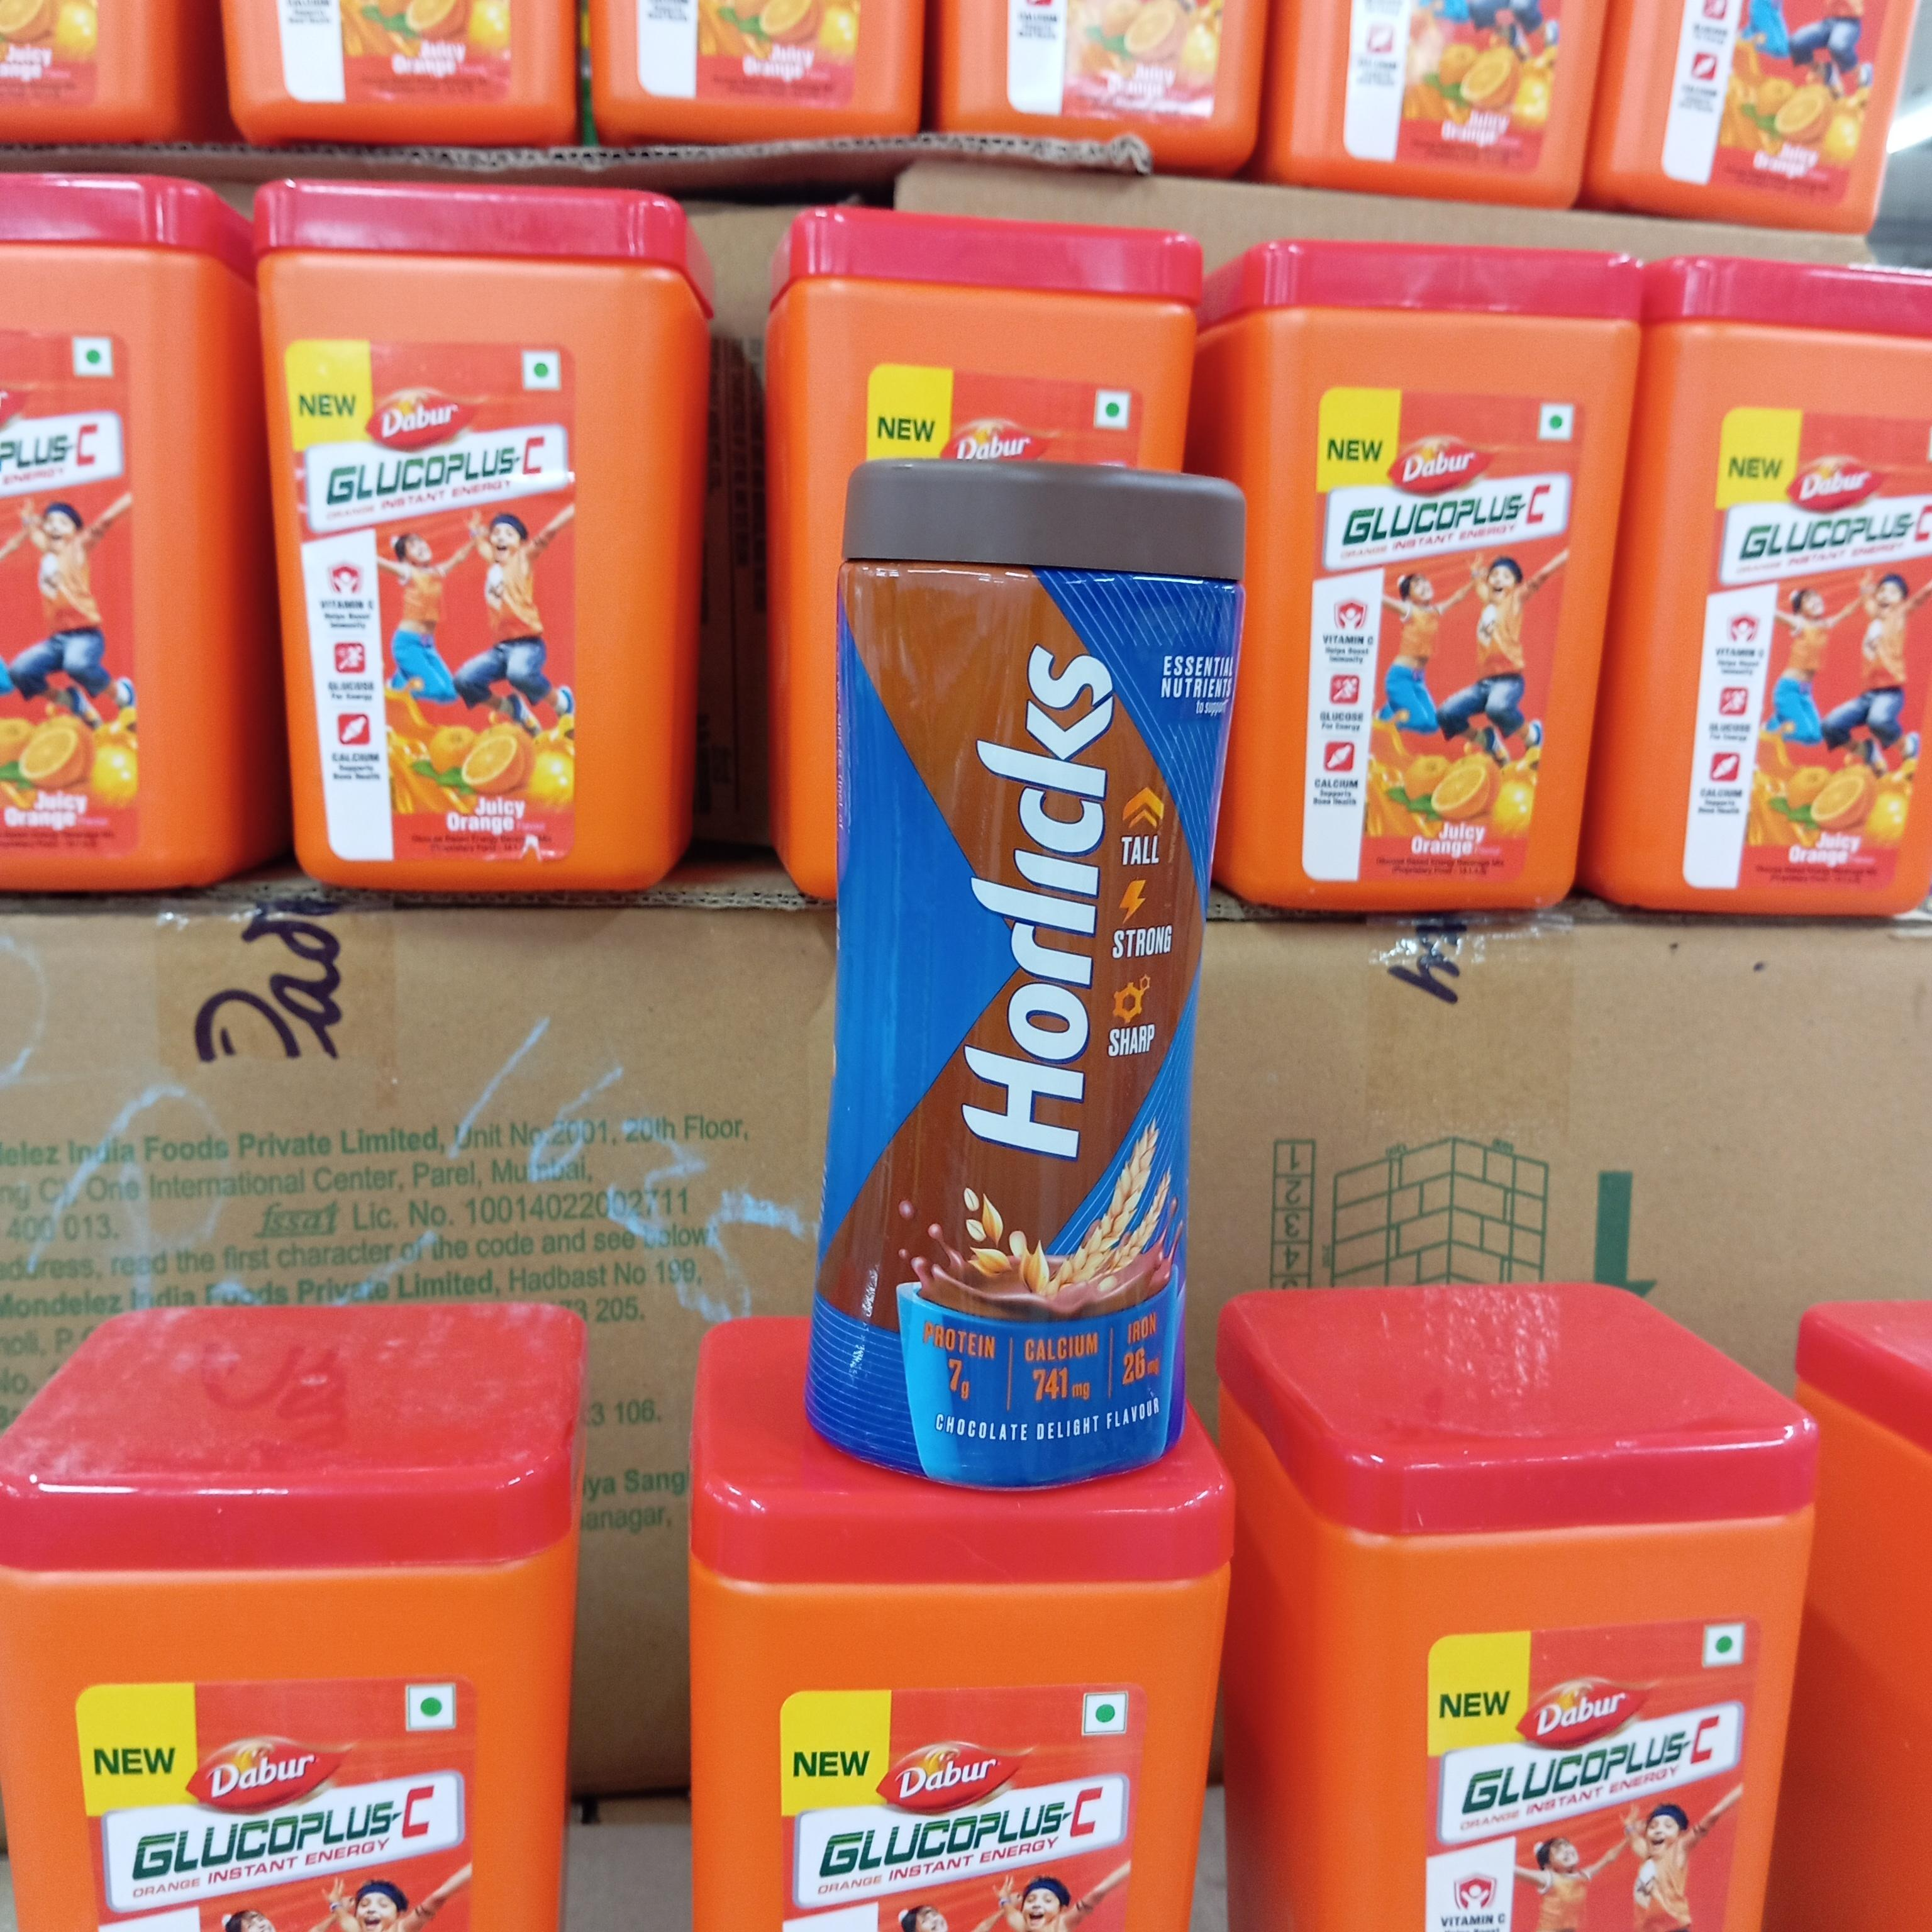HORLICK_CHOCOLATE_500_G_JAR: (828, 442, 1221, 1467)
